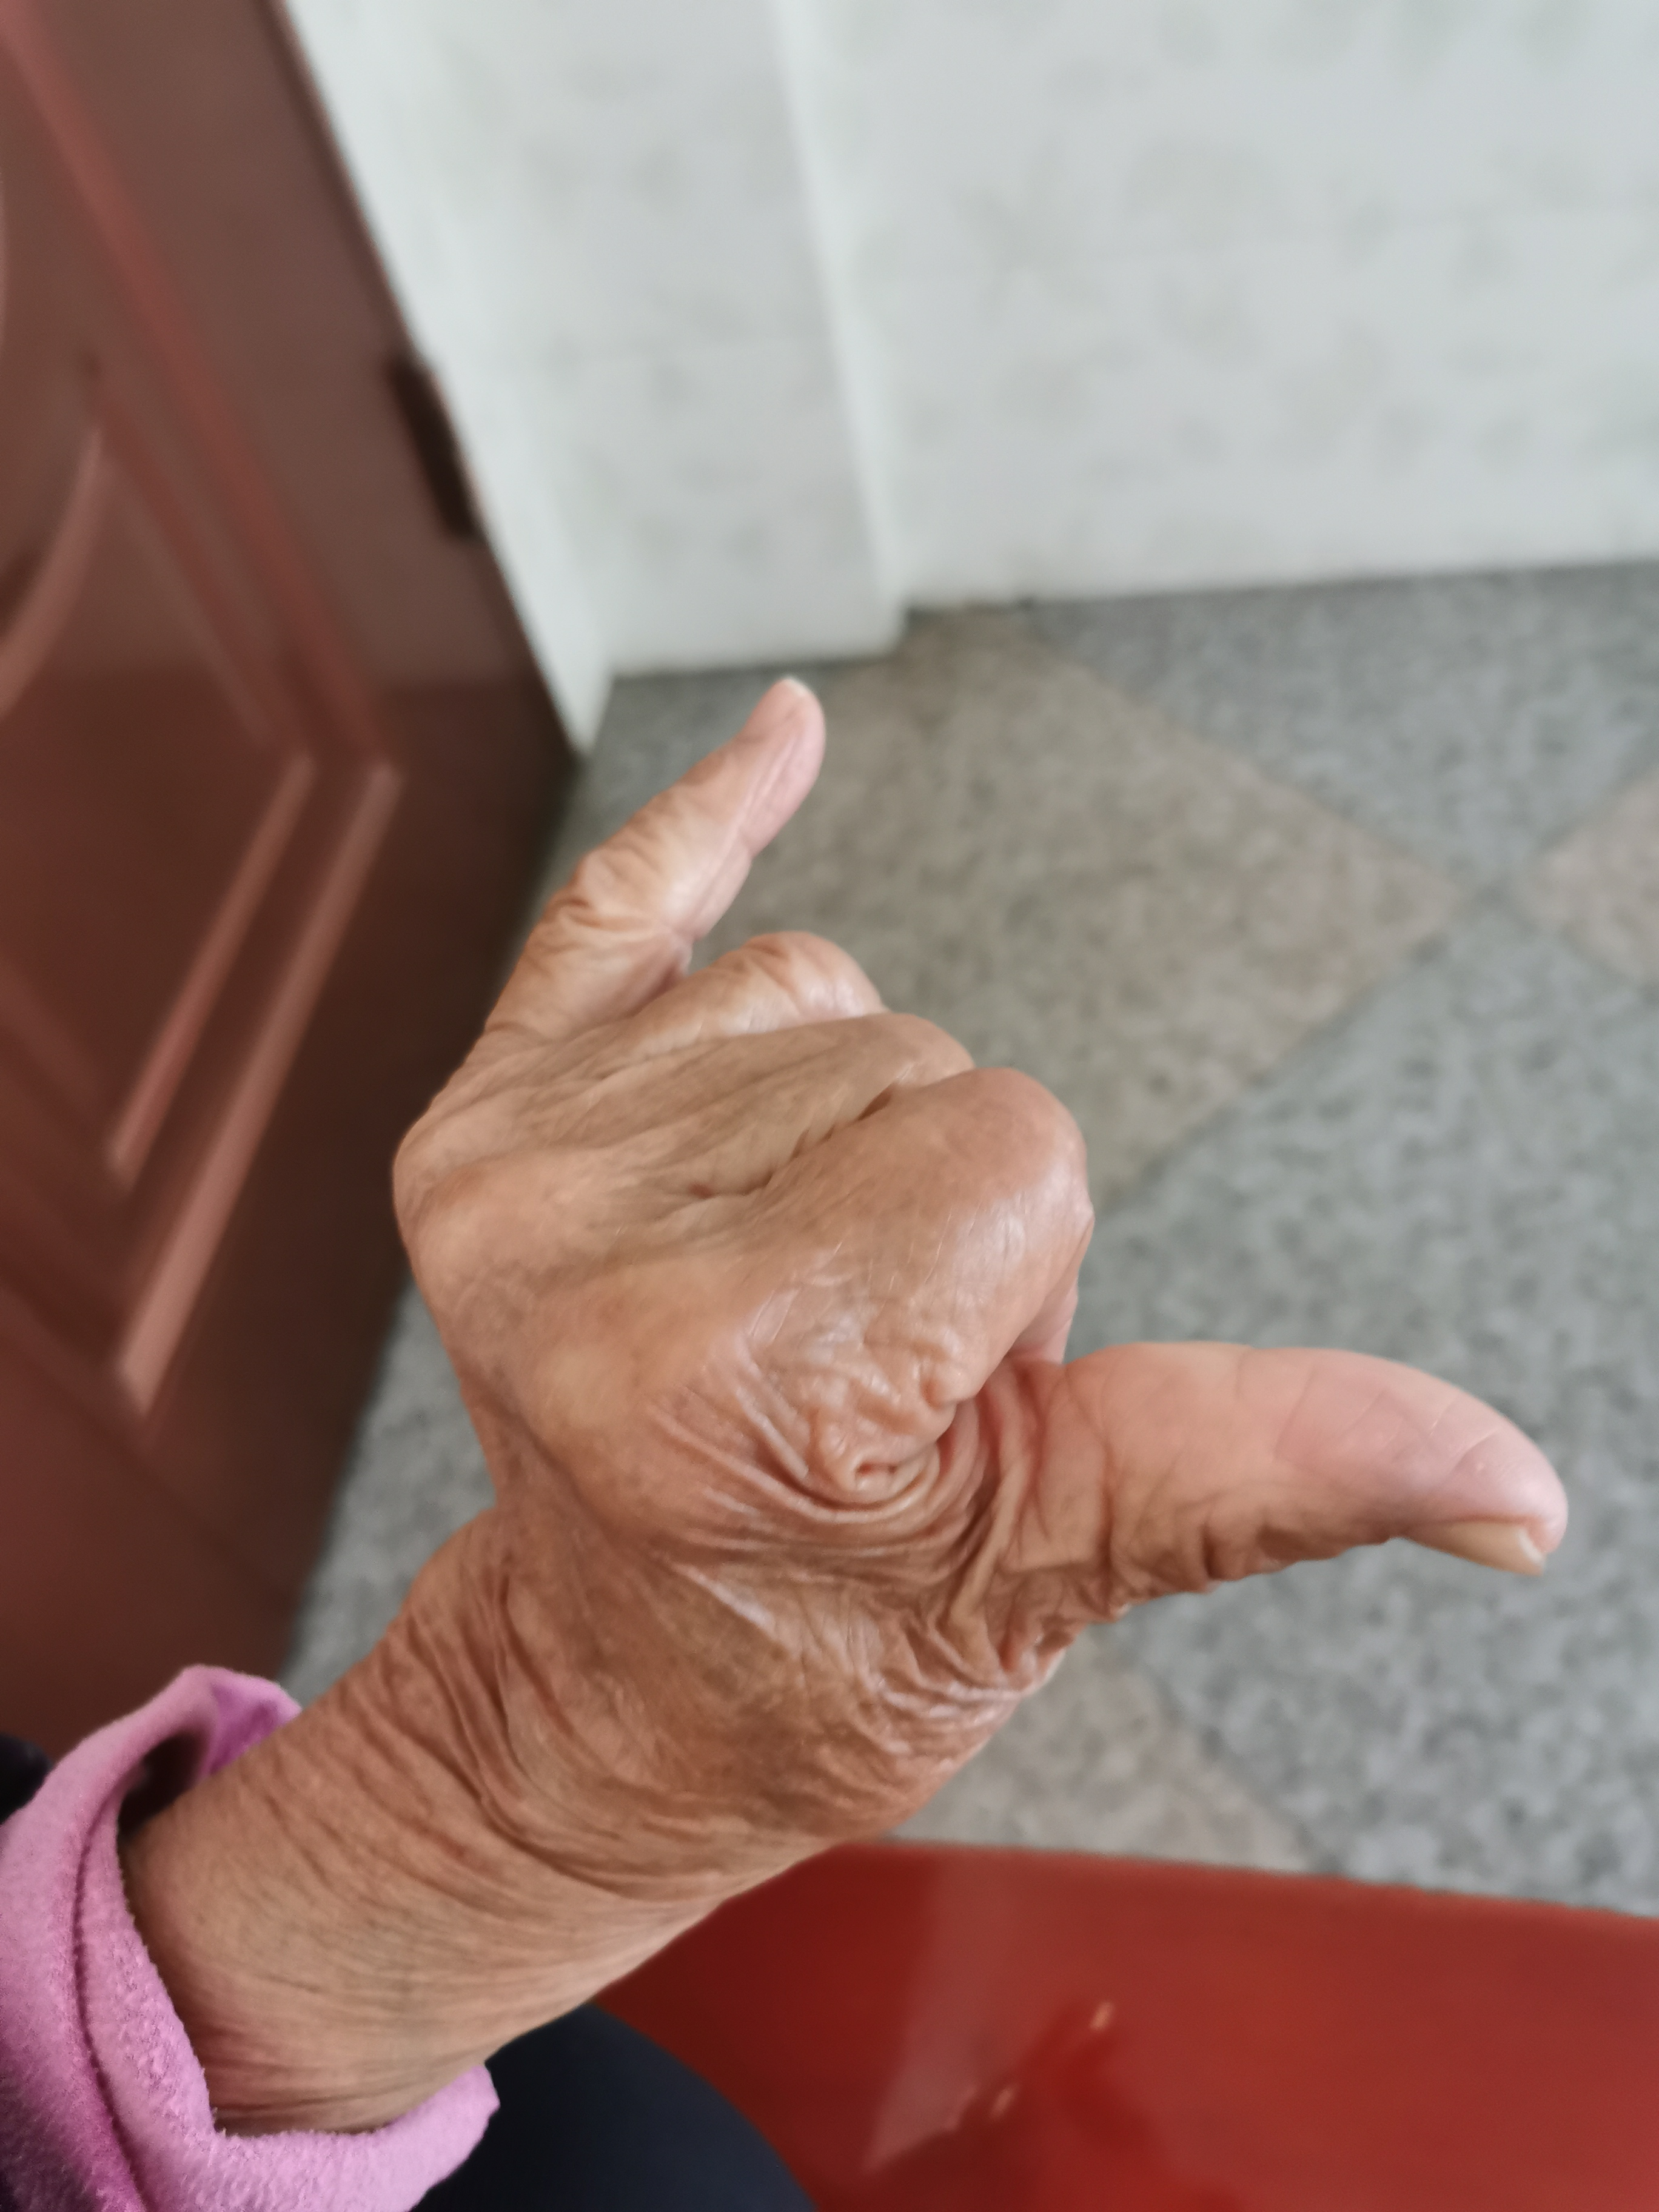clockwise: (399, 657, 1581, 1778)
